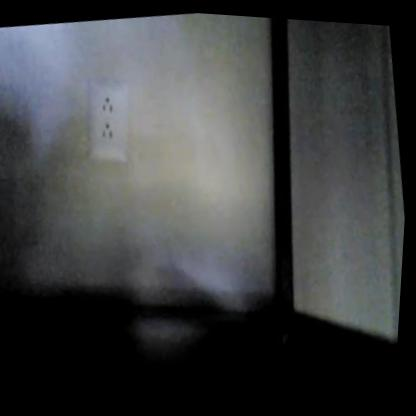OUTLET: (78, 74, 138, 168)
